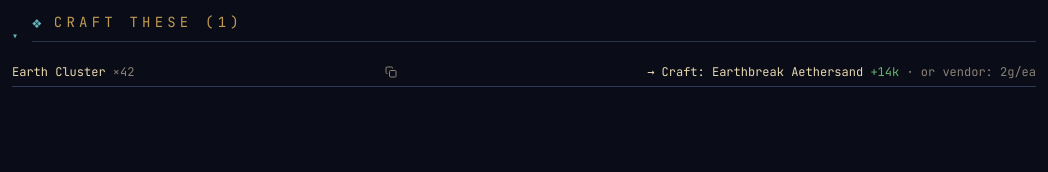
Test case: CleanupResults › renders a craft section with row + expand interaction
Expected: the heading "❖ Craft these (1)" is shown, top-left (32, 12), bottom-right (243, 33)
Expected: the link "Earth Cluster ×42" is shown, top-left (12, 64), bottom-right (134, 80)
Note: Toggle disclosure
Click the button "→ Craft: Earthbreak Aethersand +14k · or vendor: 2g/ea". click: click(842, 72)
box: top-left (647, 64), bottom-right (1036, 80)
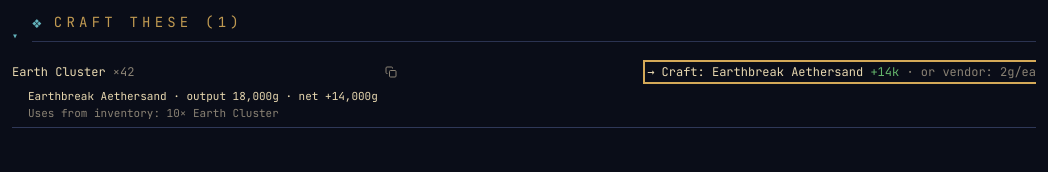
Now the text "Uses from inventory: 10× Earth Cluster" is shown, box top-left (28, 106), bottom-right (279, 120)
